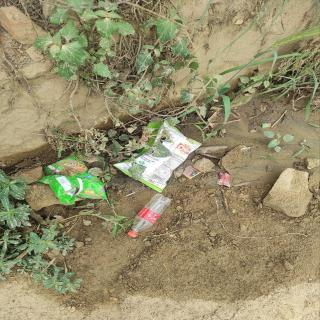Plastic-bottle: (126, 192, 175, 240)
